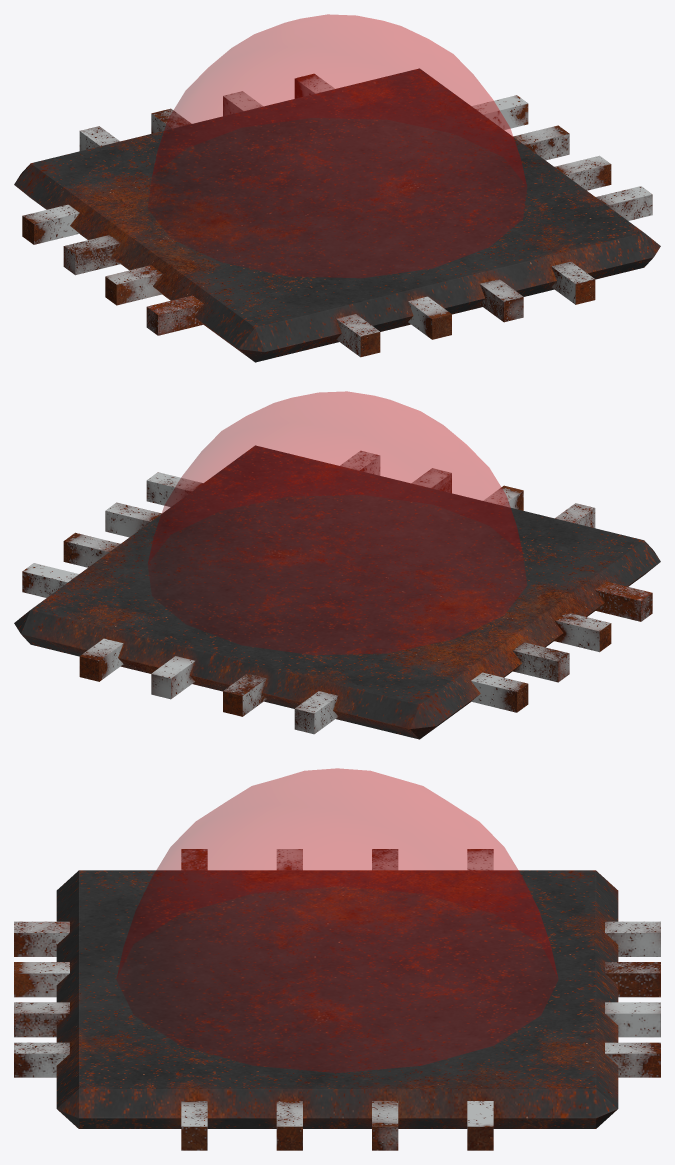
The model's file is CPU_Bigver.fbx.
3 views of the same model, one above another, from view 1: azimuth 30°, elevation 25°; view 2: azimuth 150°, elevation 25°; view 3: azimuth 270°, elevation 25° (orthographic). The views are drawn at different scales.
Parts seen in each view (by area): view 1: pCube9; view 2: pCube9; view 3: pCube9.
Boxes of the visible parts, x1,y1,x2,y2 form: pCube9: (14,14,660,362); pCube9: (14,391,660,739); pCube9: (14,768,660,1150).
Bounding box in the file's own units: 2.76 × 1.07 × 2.72.
Materials: 2 (1 with a texture image).
